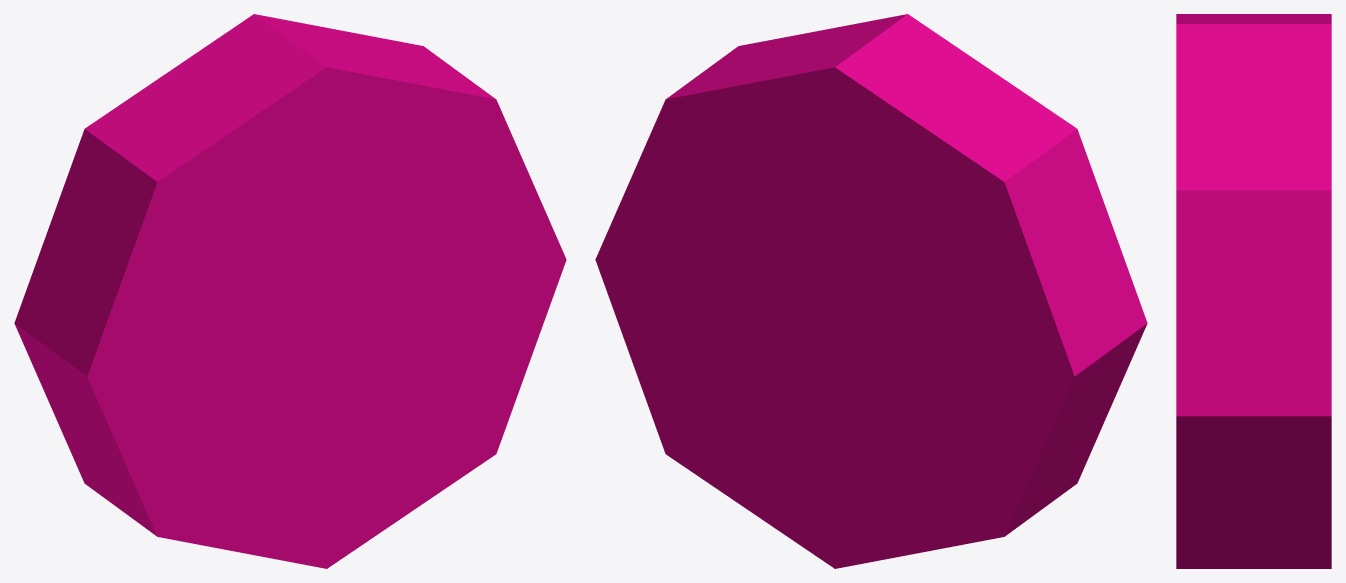
The model's file is Boton11.fbx.
The picture shows the model from 3 angles, left to right: view 1: azimuth 30°, elevation 25°; view 2: azimuth 150°, elevation 25°; view 3: azimuth 270°, elevation 25°; orthographic projection. The views are drawn at different scales.
Visible parts, largest first — view 1: Boton11; view 2: Boton11; view 3: Boton11.
Part boxes in pixels (x1=…): Boton11: x1=14, y1=14, x2=566, y2=568; Boton11: x1=595, y1=14, x2=1147, y2=568; Boton11: x1=1176, y1=14, x2=1331, y2=568.
Bounding box in the file's own units: 10 × 10 × 2.63.
